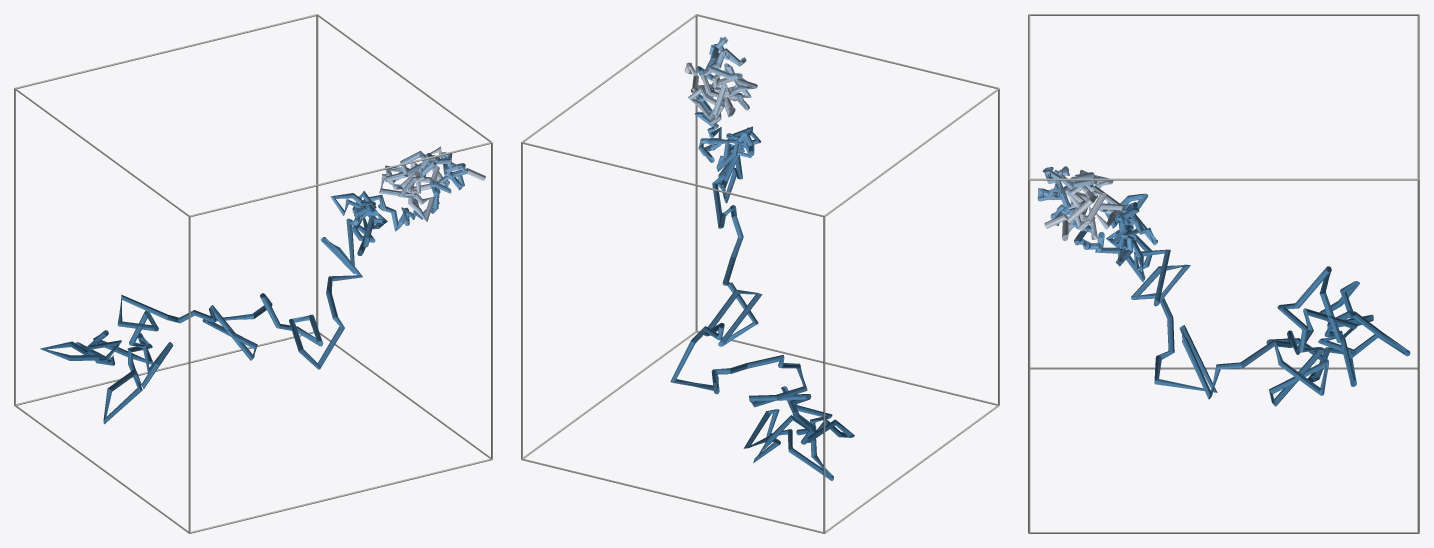
3 views of the same model, side by side, from view 1: azimuth 30°, elevation 25°; view 2: azimuth 150°, elevation 25°; view 3: azimuth 270°, elevation 25° (orthographic). The views are drawn at different scales.
Parts seen in each view (by area): view 1: geometry_0, geometry_1; view 2: geometry_0, geometry_1; view 3: geometry_0, geometry_1.
Boxes of the visible parts, x1,y1,x2,y2 form: geometry_0: [40, 146, 485, 424]; geometry_1: [14, 14, 492, 533]; geometry_0: [670, 36, 854, 480]; geometry_1: [521, 14, 999, 533]; geometry_0: [1037, 166, 1410, 406]; geometry_1: [1028, 14, 1419, 533].
Size of the model in its own units: 0.3045 by 0.3014 by 0.3016.
